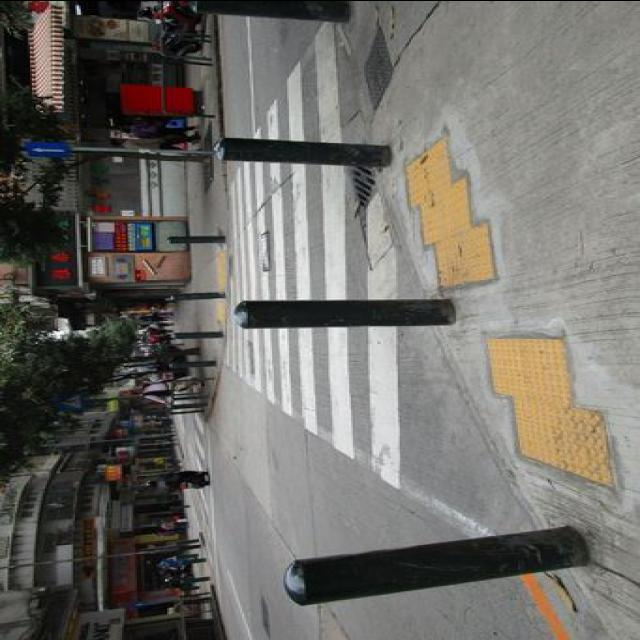tactile-guide-path: (486, 335, 614, 485), (408, 137, 493, 285)
